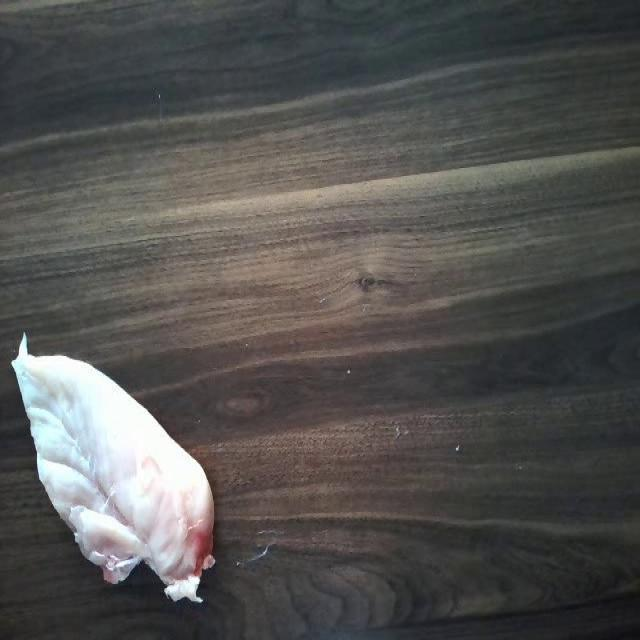breast: (11, 344, 222, 604)
